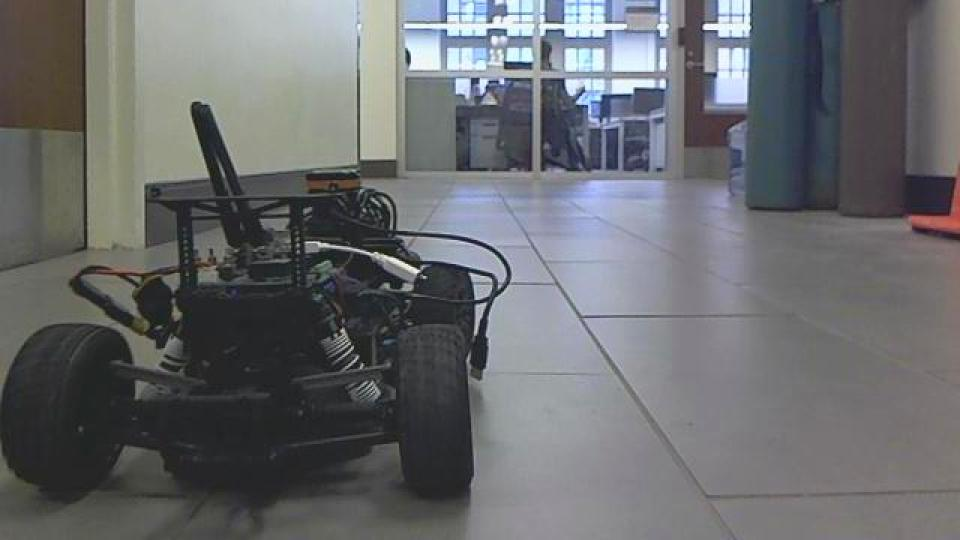car: (3, 99, 515, 505)
